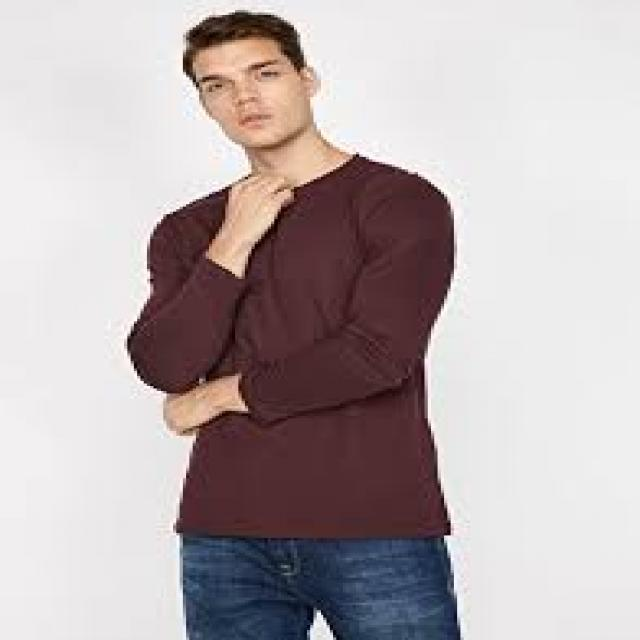plain: (129, 172, 468, 547)
